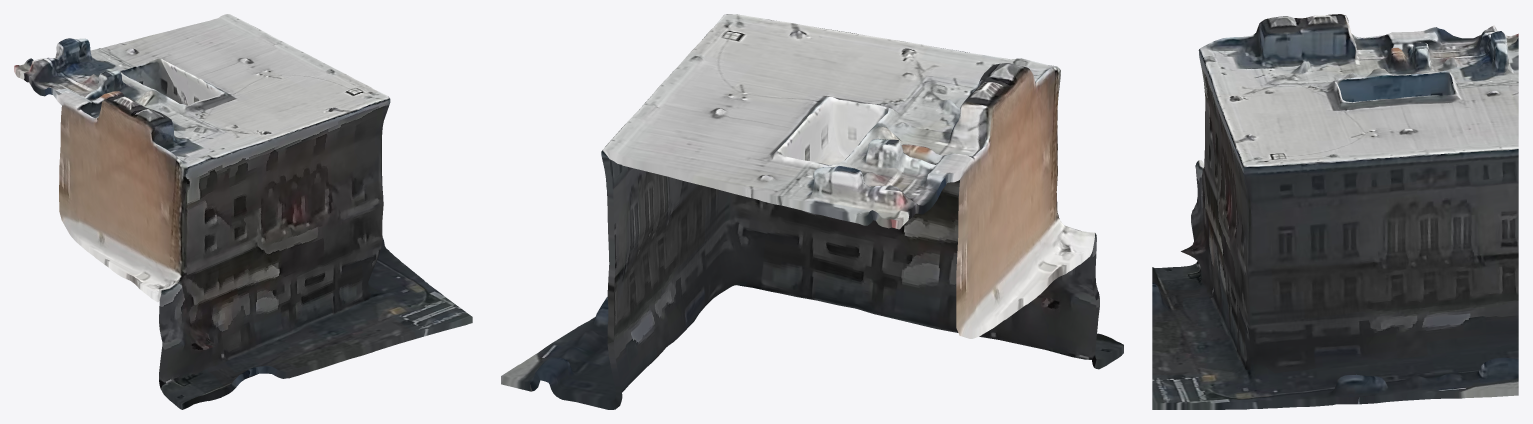
Rendered from z20-167746-405244-h0-yup-uvflip-v3-world.glb.
The picture shows the model from 3 angles, left to right: view 1: azimuth 30°, elevation 25°; view 2: azimuth 150°, elevation 25°; view 3: azimuth 270°, elevation 25°; orthographic projection. The views are drawn at different scales.
Size of the model in its own units: 30.16 by 24.8 by 30.32.
Materials: 1 (1 with a texture image).
